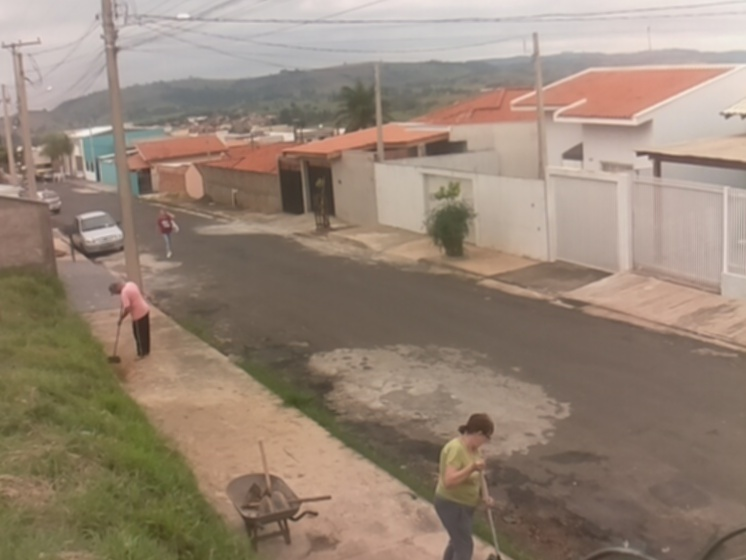person: (433, 412, 497, 560), (108, 282, 153, 360), (157, 209, 177, 259)
